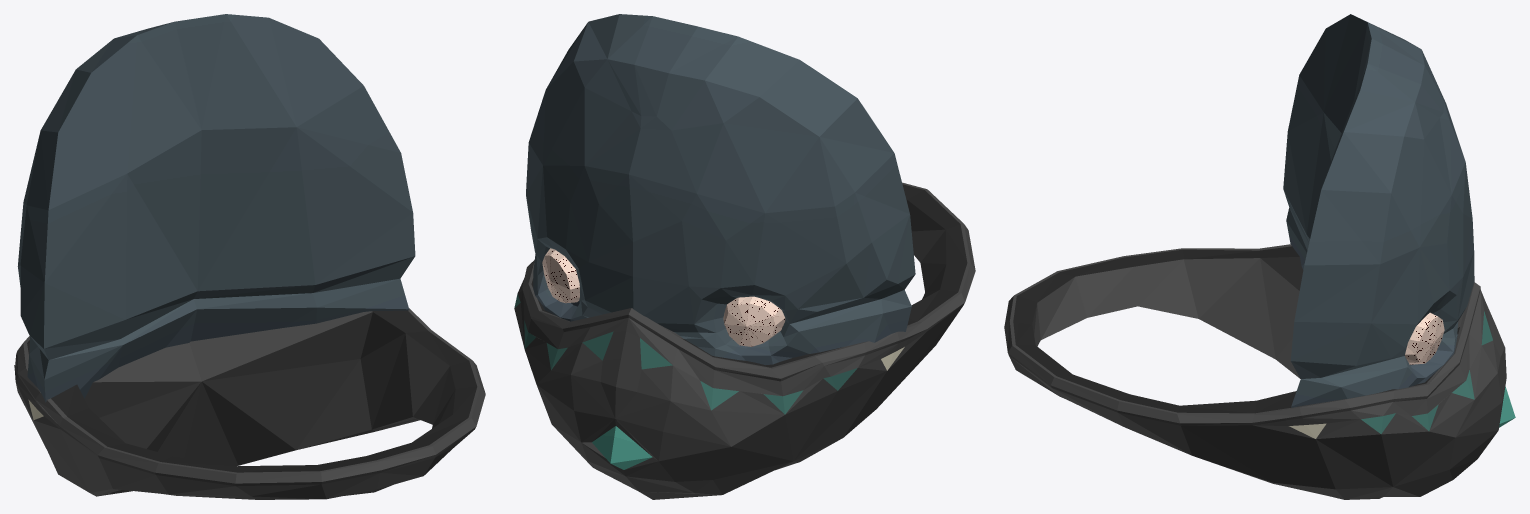
File: CharSkyKid_Mask_AP13SnorkelLite_01.glb
The picture shows the model from 3 angles, left to right: view 1: azimuth 30°, elevation 25°; view 2: azimuth 150°, elevation 25°; view 3: azimuth 270°, elevation 25°; orthographic projection. The views are drawn at different scales.
Parts seen in each view (by area): view 1: CharSkyKid_Mask_AP13SnorkelLite_01; view 2: CharSkyKid_Mask_AP13SnorkelLite_01; view 3: CharSkyKid_Mask_AP13SnorkelLite_01.
Part boxes in pixels (x1=…): CharSkyKid_Mask_AP13SnorkelLite_01: x1=14, y1=14, x2=485, y2=499; CharSkyKid_Mask_AP13SnorkelLite_01: x1=514, y1=14, x2=975, y2=499; CharSkyKid_Mask_AP13SnorkelLite_01: x1=1004, y1=14, x2=1515, y2=499.
Bounding box in the file's own units: 2.13 × 2.55 × 2.68.
1 material, 1 textured.
